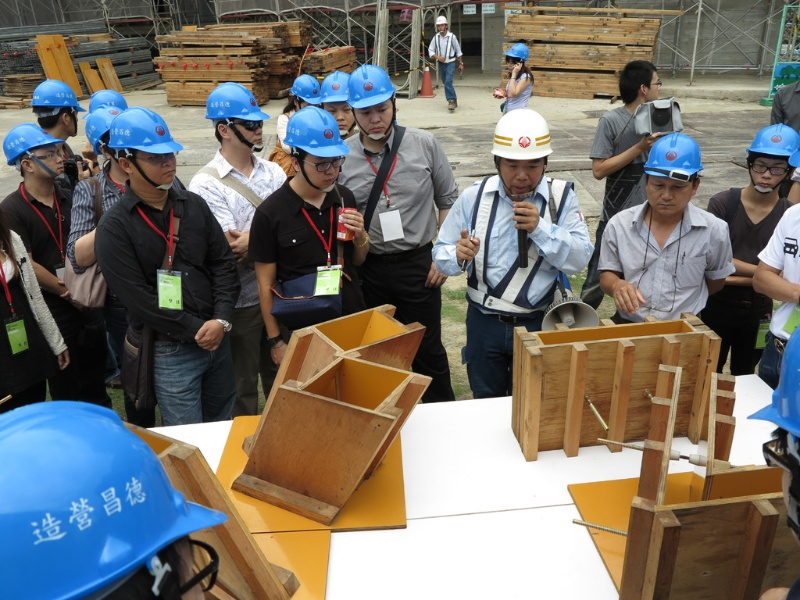helmet: (8, 395, 221, 586), (108, 107, 186, 157), (492, 108, 553, 161), (288, 107, 350, 159), (209, 84, 269, 124), (649, 134, 704, 174), (349, 68, 398, 106), (746, 125, 800, 159), (1, 123, 54, 154), (89, 107, 129, 144), (28, 79, 76, 109), (288, 74, 325, 103), (324, 74, 355, 101), (91, 90, 130, 108), (505, 42, 529, 57), (430, 14, 448, 26)
